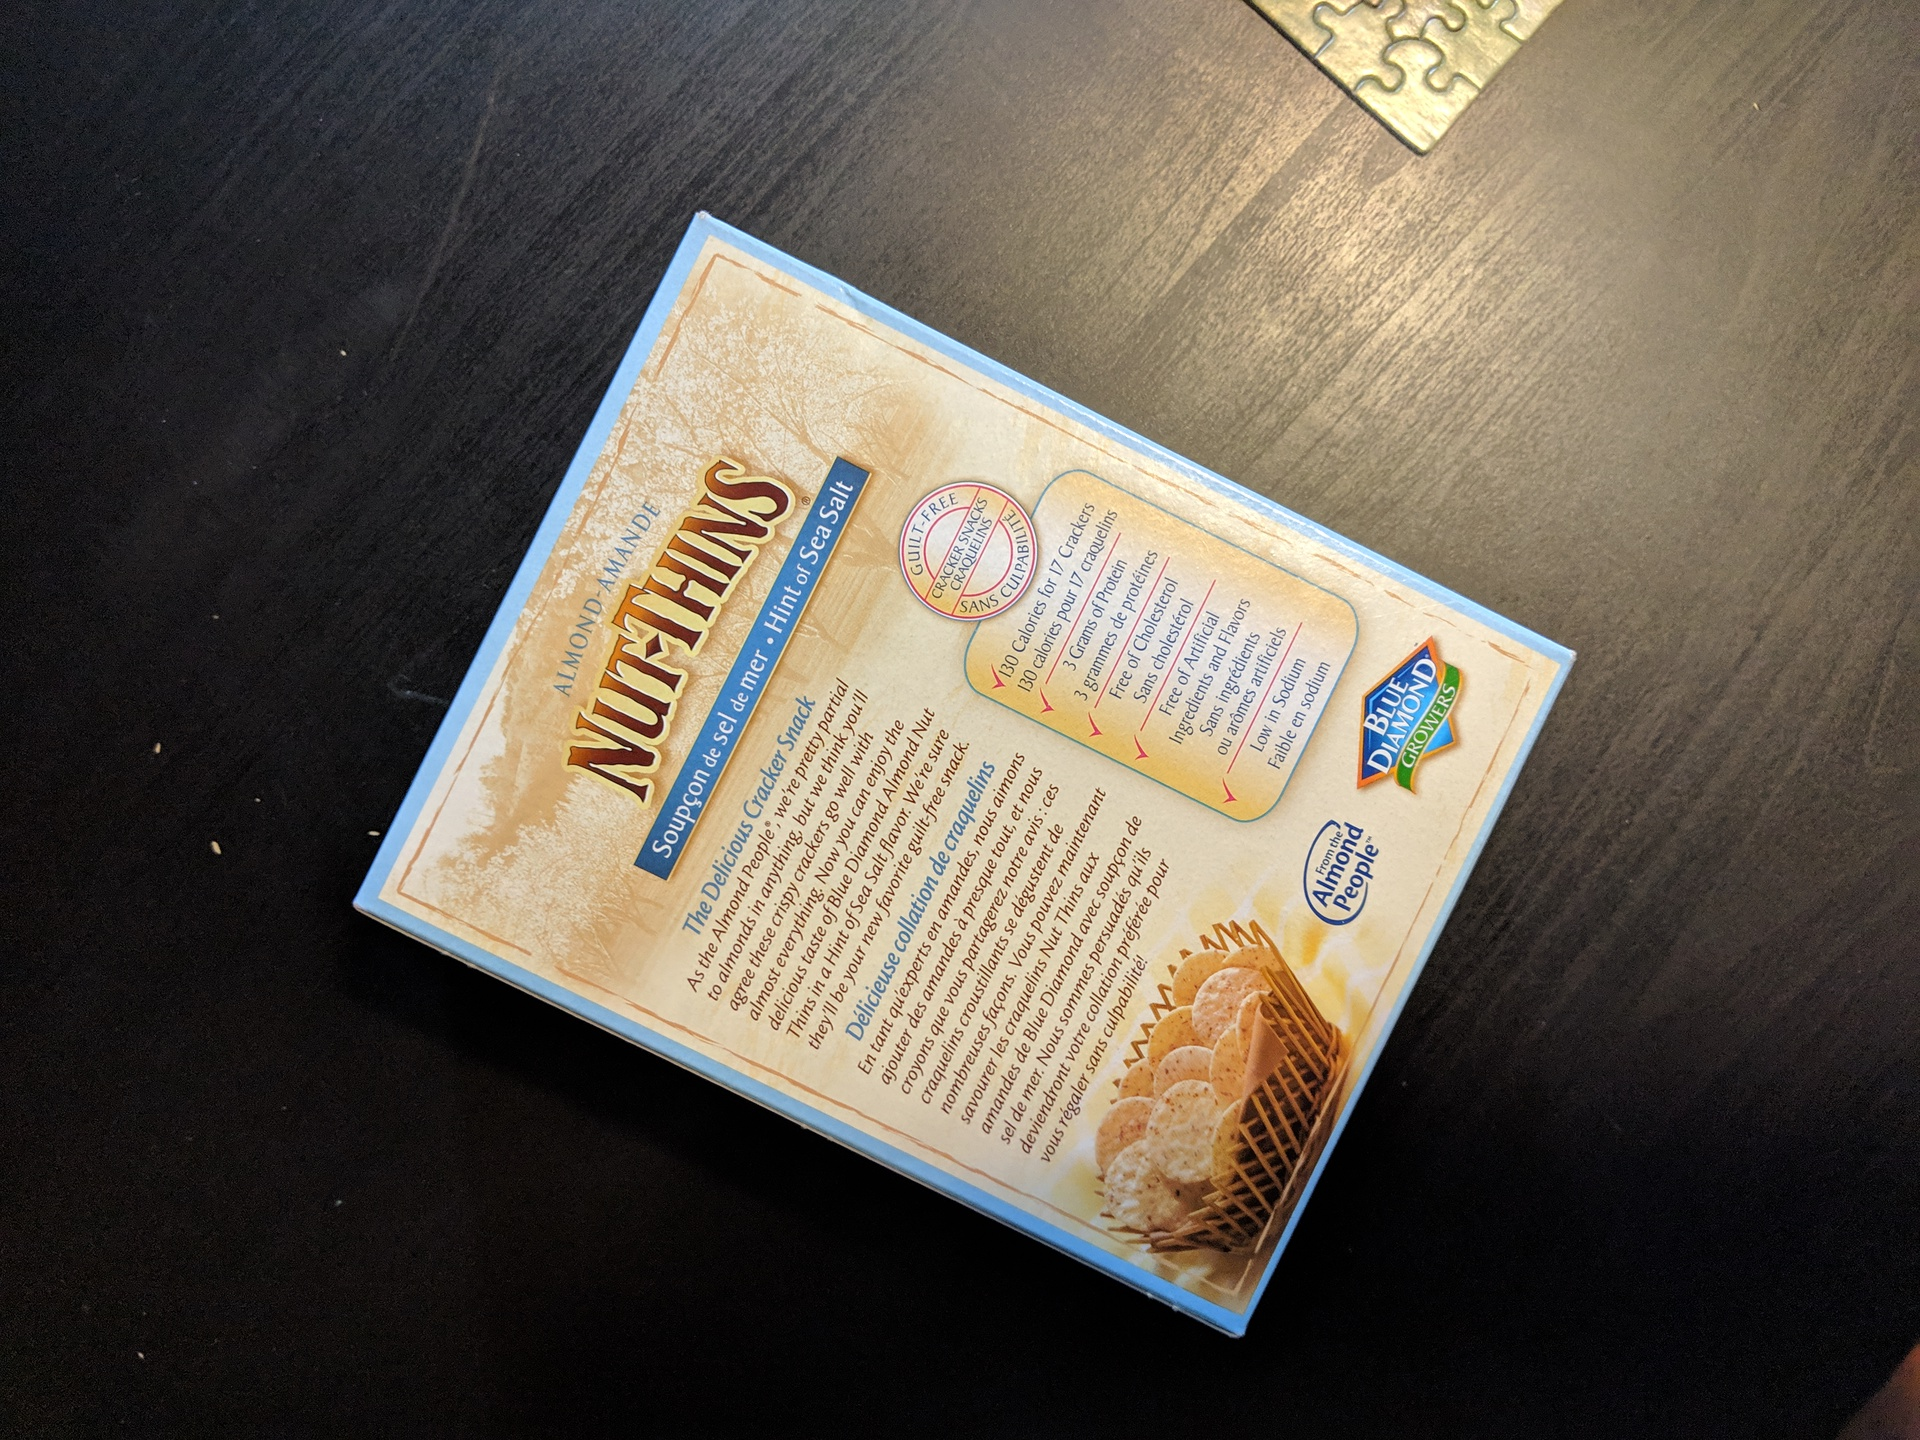blue_diamond_nut_thins_almond_seasalt: (460, 322, 1473, 1192)
